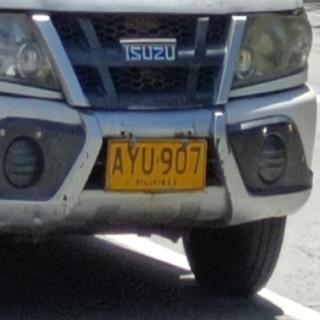license: (107, 140, 209, 191)
